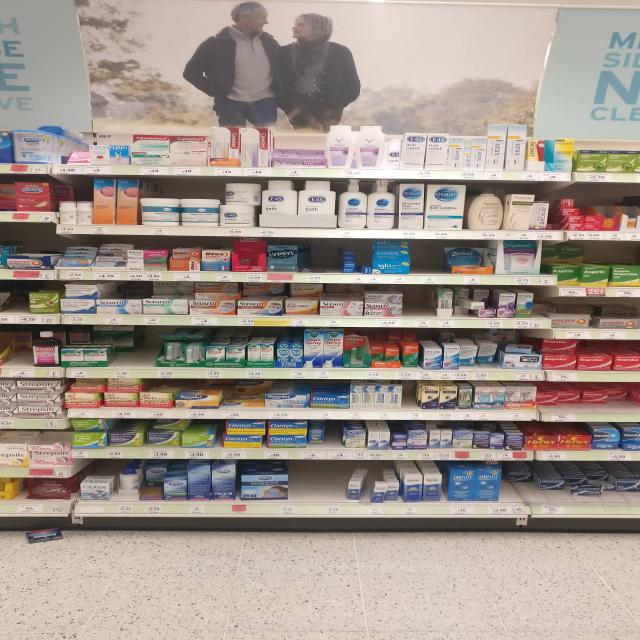void: (318, 461, 344, 516), (308, 243, 341, 284), (414, 242, 446, 284), (294, 460, 316, 513), (405, 286, 431, 328), (139, 328, 157, 378), (621, 198, 637, 240), (402, 382, 419, 418)
